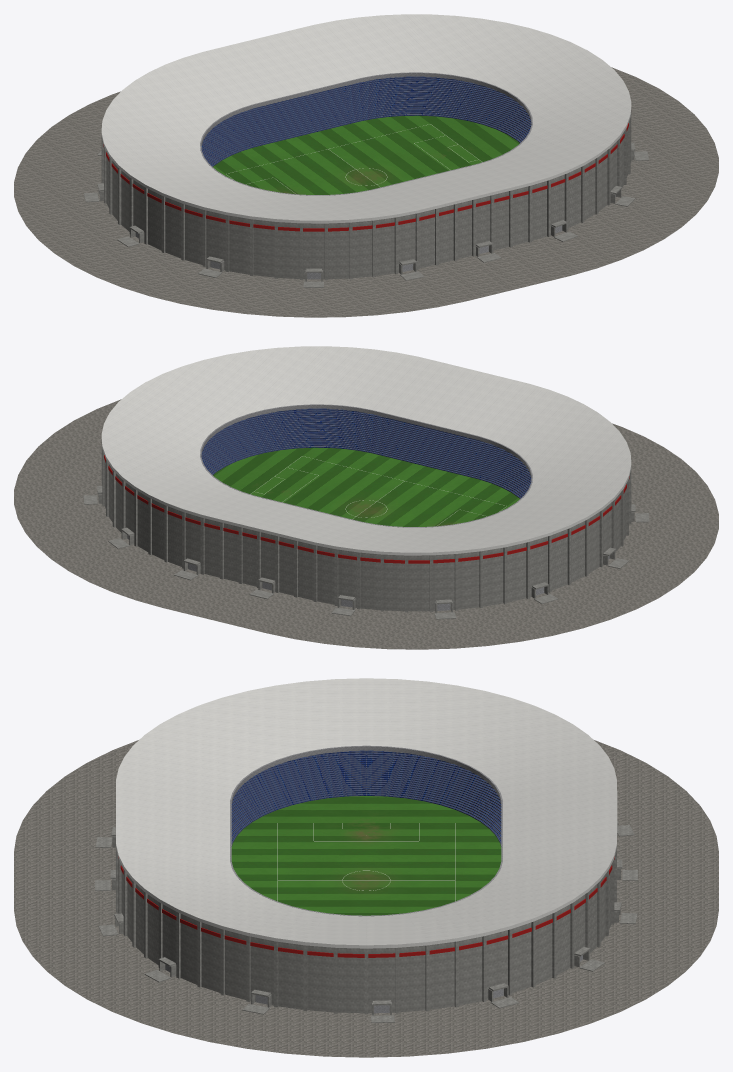
Rendered from estadio.obj.
3 views of the same model, one above another, from view 1: azimuth 30°, elevation 25°; view 2: azimuth 150°, elevation 25°; view 3: azimuth 270°, elevation 25° (orthographic). The views are drawn at different scales.
Parts seen in each view (by area): view 1: Roof_Canopy, Exterior_Ground, Facade_Wall, Field_Turf, Nivel_Inferior, Columns_Pilasters, Roof_Edge_Ring, Facade_Band, Exterior_Entrance_Aprons, Entrance_Jambs, Nivel_Superior, Entrance_Canopies; view 2: Roof_Canopy, Exterior_Ground, Facade_Wall, Field_Turf, Nivel_Inferior, Columns_Pilasters, Roof_Edge_Ring, Facade_Band, Exterior_Entrance_Aprons, Entrance_Jambs, Nivel_Superior, Entrance_Canopies; view 3: Roof_Canopy, Exterior_Ground, Field_Turf, Facade_Wall, Nivel_Inferior, Columns_Pilasters, Roof_Edge_Ring, Exterior_Entrance_Aprons, Facade_Band, Entrance_Jambs, Entrance_Canopies, Nivel_Superior.
Boxes of the visible parts, left/top/right/bottom form: Roof_Canopy: left=101, top=14, right=631, bottom=223; Exterior_Ground: left=14, top=67, right=718, bottom=317; Facade_Wall: left=106, top=128, right=628, bottom=279; Field_Turf: left=213, top=115, right=519, bottom=194; Nivel_Inferior: left=201, top=80, right=531, bottom=166; Columns_Pilasters: left=101, top=110, right=631, bottom=280; Roof_Edge_Ring: left=200, top=72, right=532, bottom=195; Facade_Band: left=103, top=123, right=628, bottom=231; Exterior_Entrance_Aprons: left=84, top=151, right=648, bottom=287; Entrance_Jambs: left=98, top=150, right=634, bottom=281; Nivel_Superior: left=245, top=76, right=488, bottom=111; Entrance_Canopies: left=97, top=142, right=635, bottom=272; Roof_Canopy: left=101, top=346, right=631, bottom=555; Exterior_Ground: left=14, top=399, right=718, bottom=649; Facade_Wall: left=104, top=460, right=626, bottom=611; Field_Turf: left=213, top=447, right=519, bottom=526; Nivel_Inferior: left=201, top=412, right=531, bottom=498; Columns_Pilasters: left=101, top=442, right=631, bottom=612; Roof_Edge_Ring: left=200, top=404, right=532, bottom=527; Facade_Band: left=104, top=455, right=629, bottom=563; Exterior_Entrance_Aprons: left=83, top=495, right=649, bottom=619; Entrance_Jambs: left=98, top=494, right=634, bottom=613; Nivel_Superior: left=244, top=408, right=487, bottom=443; Entrance_Canopies: left=97, top=486, right=635, bottom=604; Roof_Canopy: left=116, top=678, right=617, bottom=948; Exterior_Ground: left=14, top=740, right=718, bottom=1057; Field_Turf: left=231, top=796, right=501, bottom=915; Facade_Wall: left=121, top=865, right=611, bottom=1013; Nivel_Inferior: left=231, top=754, right=501, bottom=846; Columns_Pilasters: left=116, top=848, right=616, bottom=1014; Roof_Edge_Ring: left=230, top=745, right=502, bottom=916; Exterior_Entrance_Aprons: left=95, top=824, right=637, bottom=1022; Facade_Band: left=118, top=856, right=614, bottom=957; Entrance_Jambs: left=112, top=825, right=620, bottom=1015; Entrance_Canopies: left=110, top=821, right=622, bottom=1005; Nivel_Superior: left=279, top=750, right=453, bottom=764.
Size of the model in its own units: 320 by 29.28 by 270.
9 materials, 9 textured.
